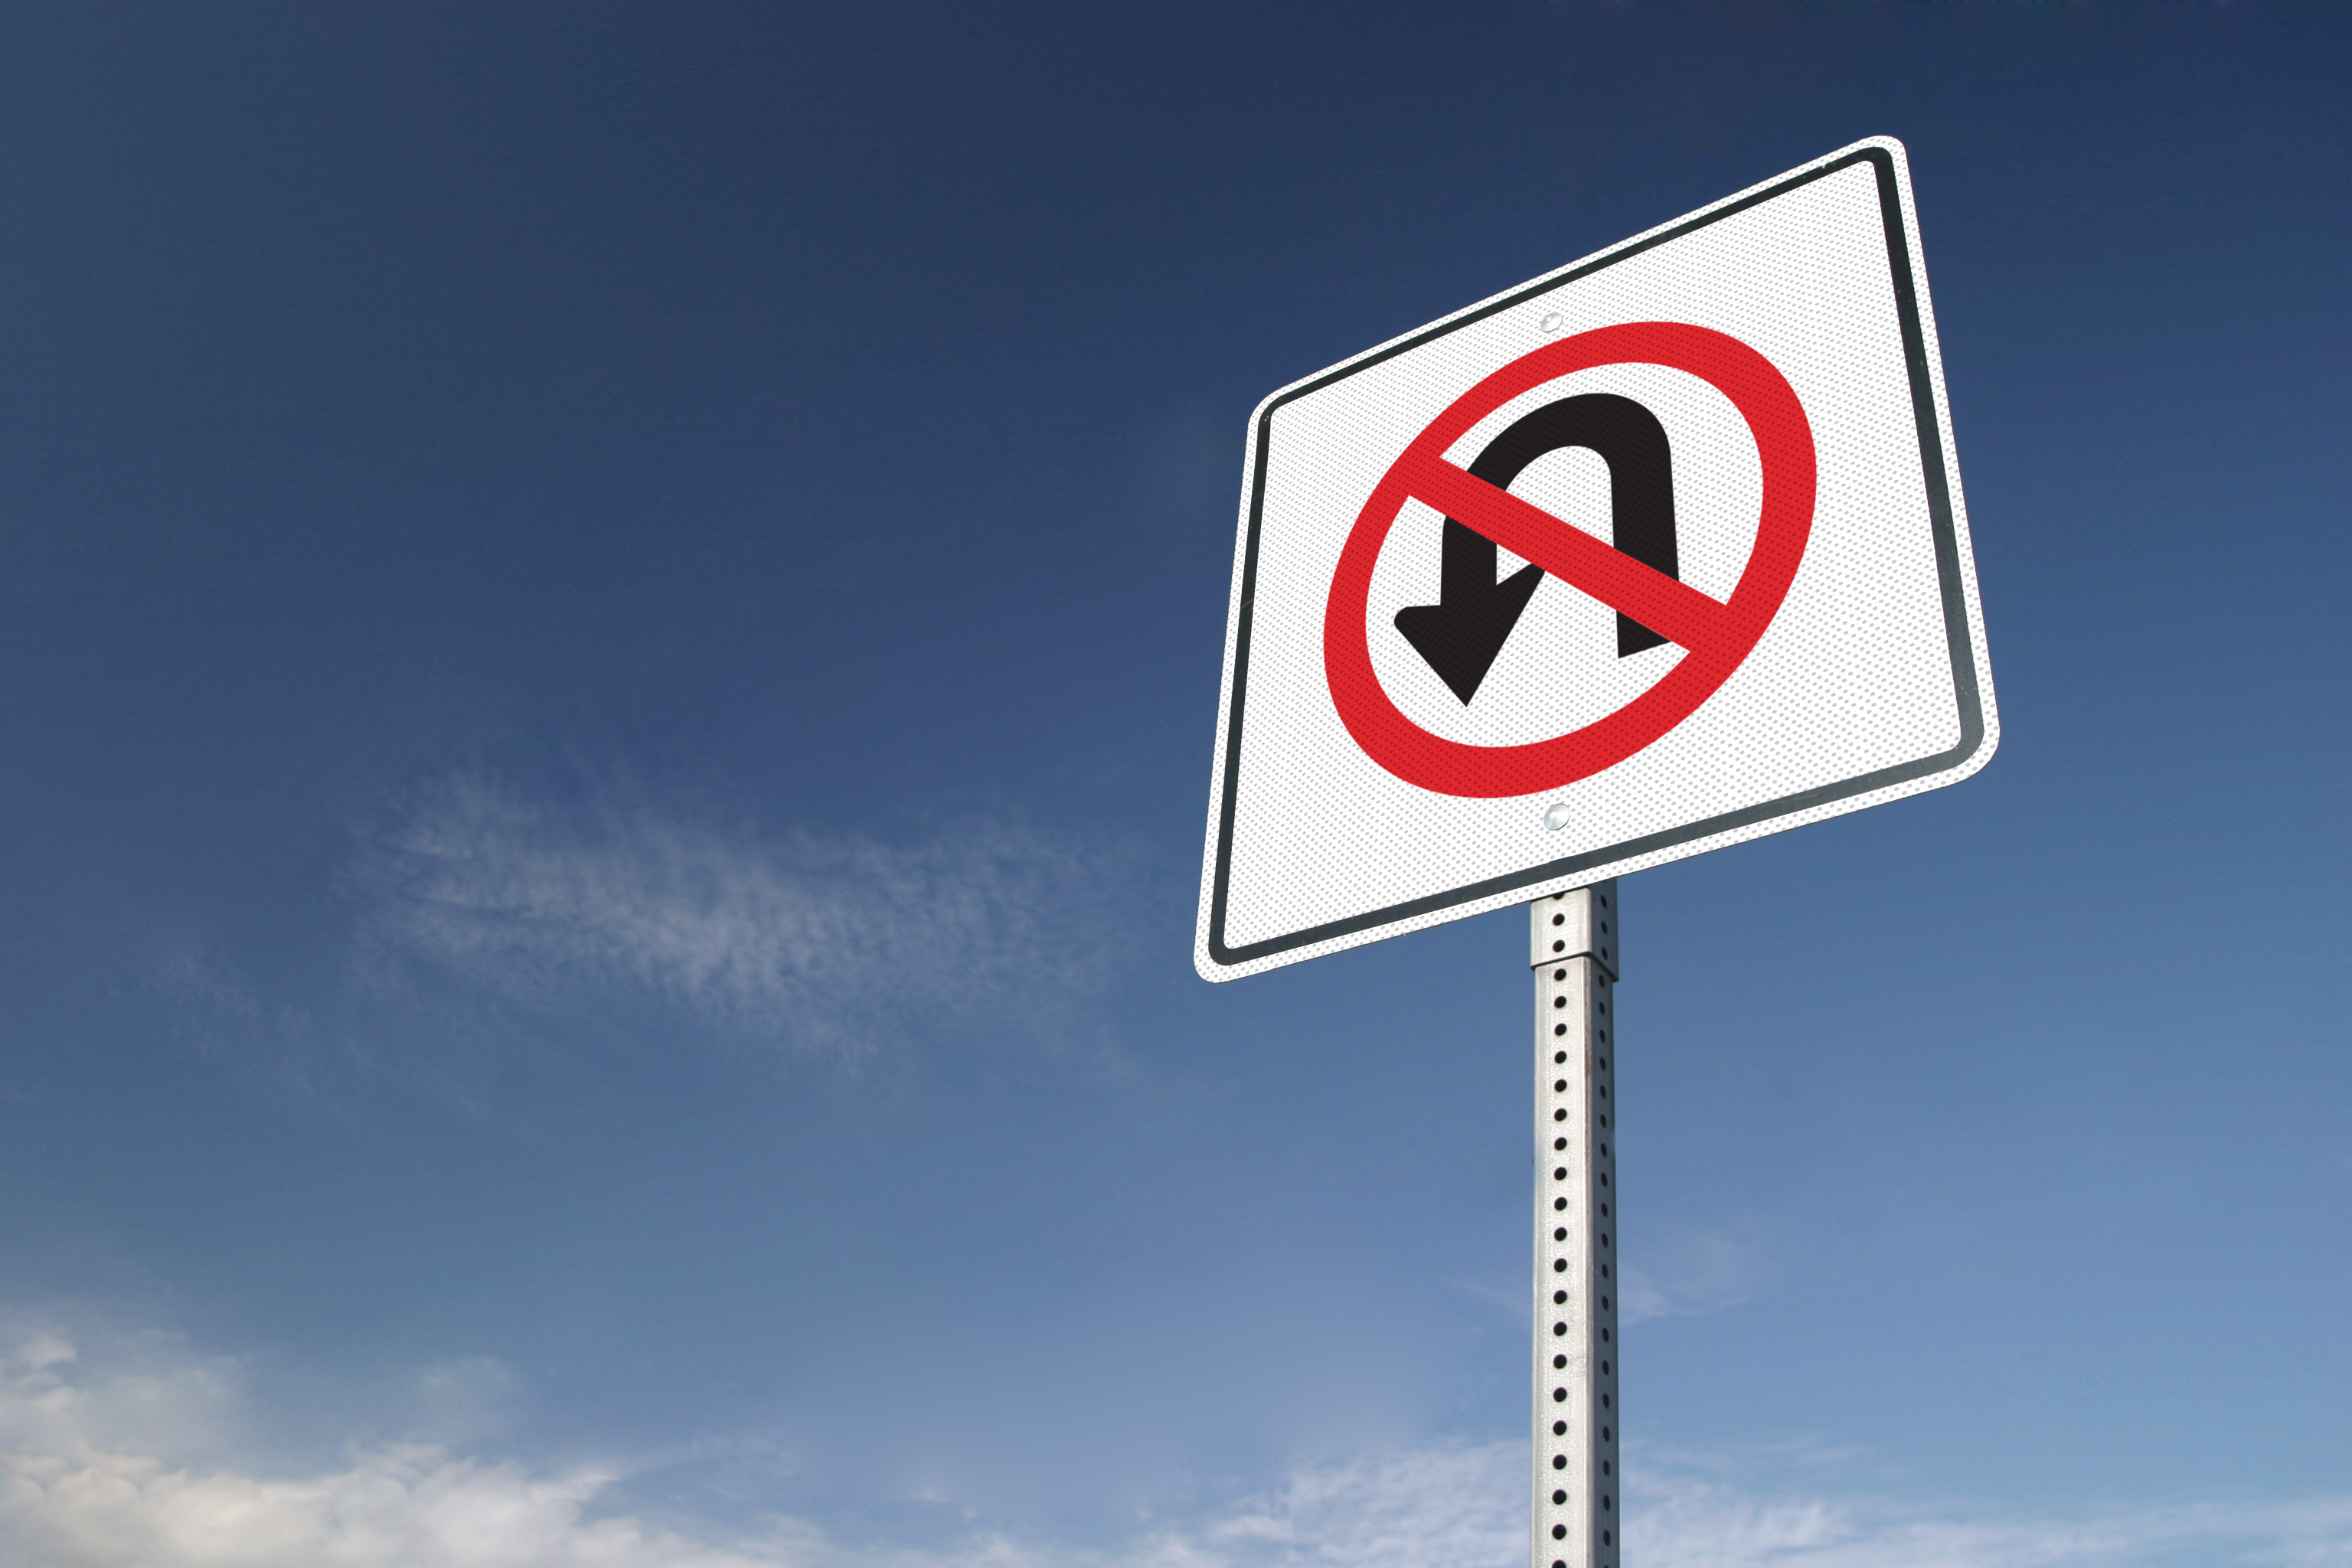No_u_turn: (1316, 311, 1813, 796)
